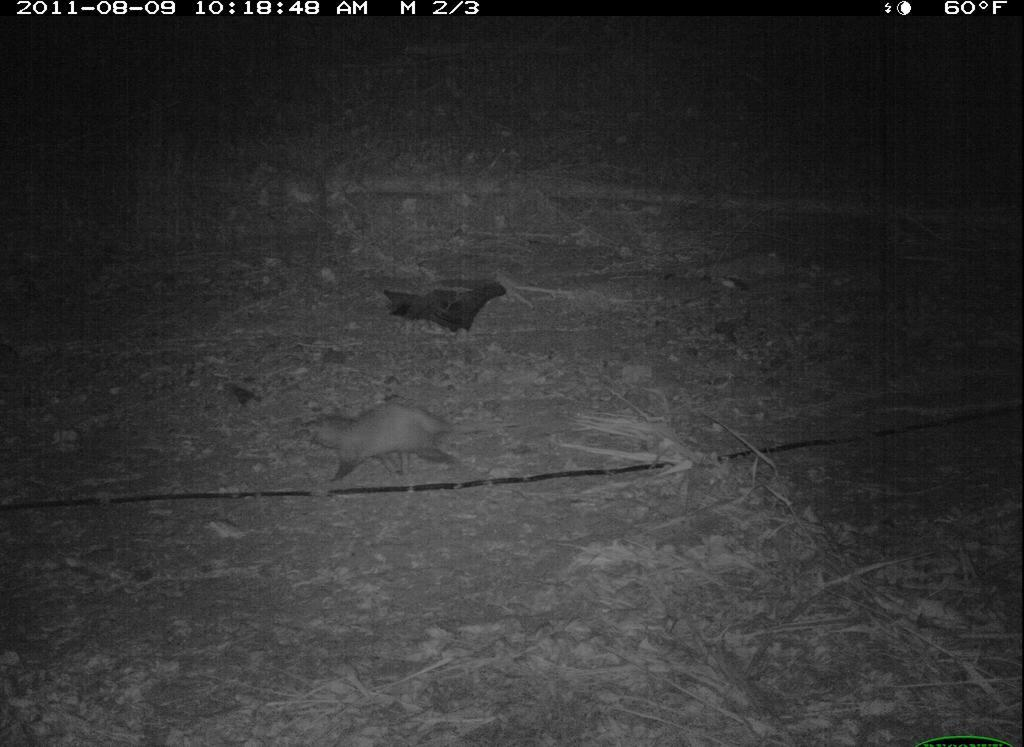opossum: (305, 397, 520, 489)
